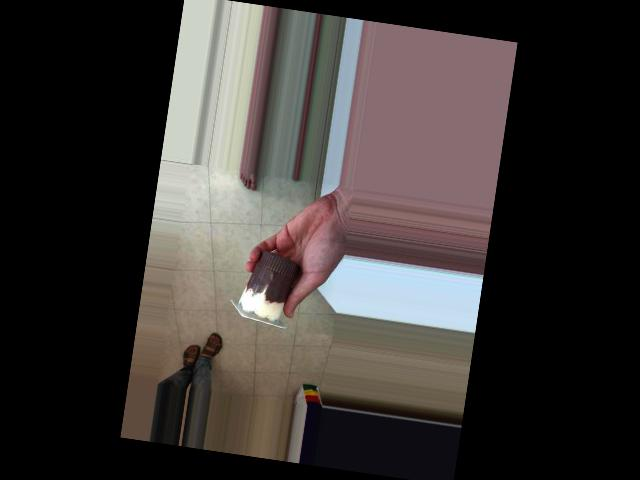milky: (237, 252, 297, 338)
